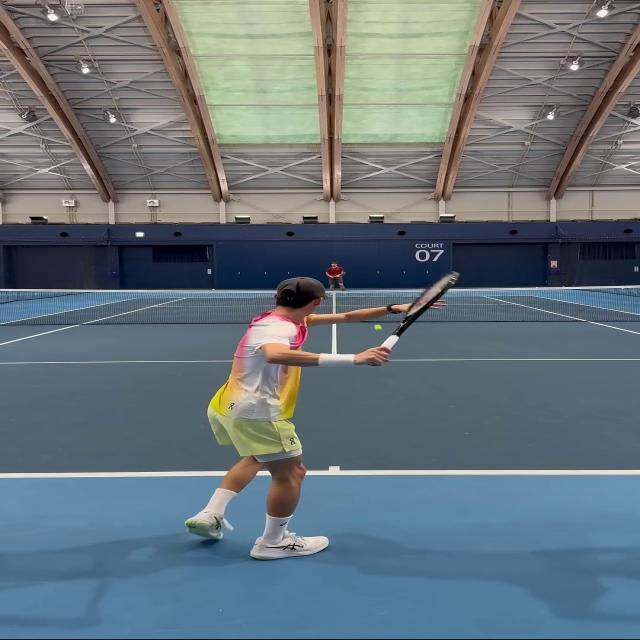tennis_ball: (375, 326, 381, 330)
